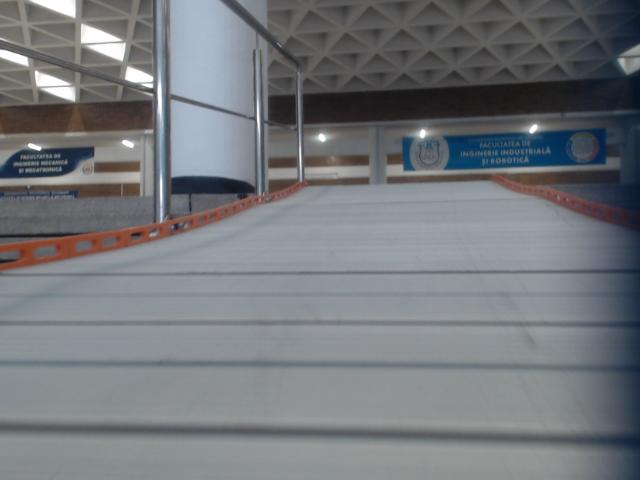rampUp: (0, 177, 639, 479)
ramps-railing: (0, 0, 255, 222), (255, 49, 304, 195), (221, 0, 299, 66)
